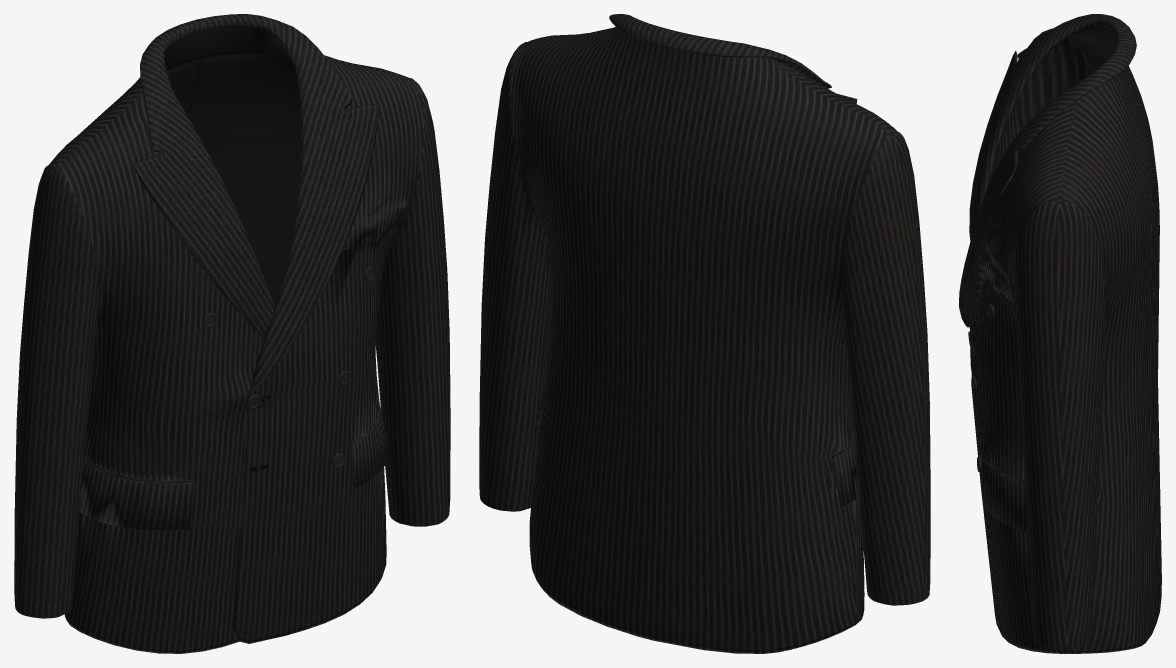
3 renders of one model, left to right at view 1: azimuth 30°, elevation 25°; view 2: azimuth 150°, elevation 25°; view 3: azimuth 270°, elevation 25°, orthographic. The views are drawn at different scales.
Parts seen in each view (by area): view 1: Sute_01; view 2: Sute_01; view 3: Sute_01.
Part boxes in pixels (<box>): Sute_01: <box>14,14,450,653</box>; Sute_01: <box>479,14,930,653</box>; Sute_01: <box>959,14,1161,653</box>.
Bounding box in the file's own units: 2.84 × 3.64 × 1.18.
Materials: 6 (6 with a texture image).
